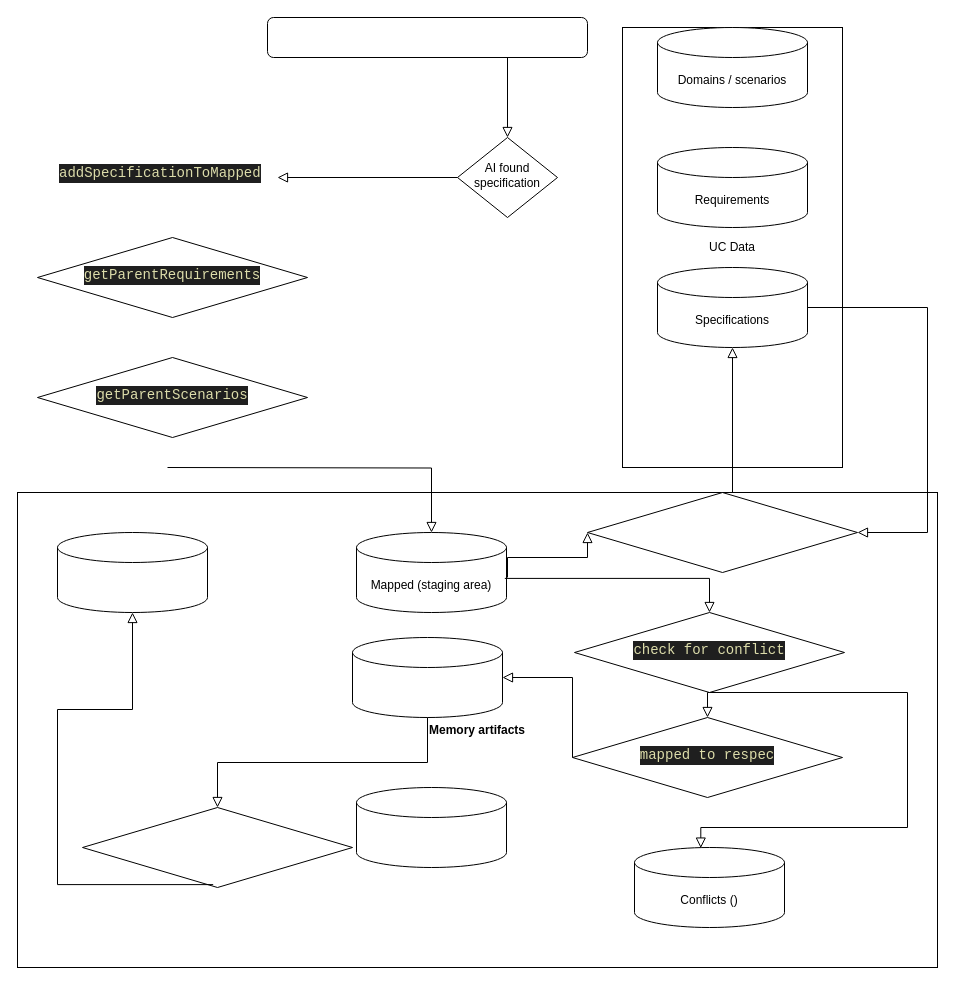
Image size: 955x985. Some labels were removed from this diagram. Here are the shapes that lost their labels. From the top down, the centre of each, then its label:
the point at 427,37: user enters "I need a high performance pc with corei9"
the point at 722,532: addDependencyRequirement
the point at 132,572: Form
the point at 427,677: Respec (final, no conflicts area)
the point at 217,847: sync respec to form
the point at 431,827: Unmapped (not found relevant specification / requirement / specification)
